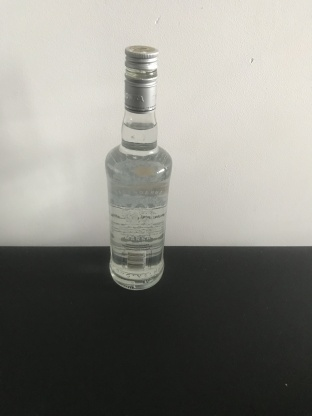nakretka: (123, 43, 159, 114)
